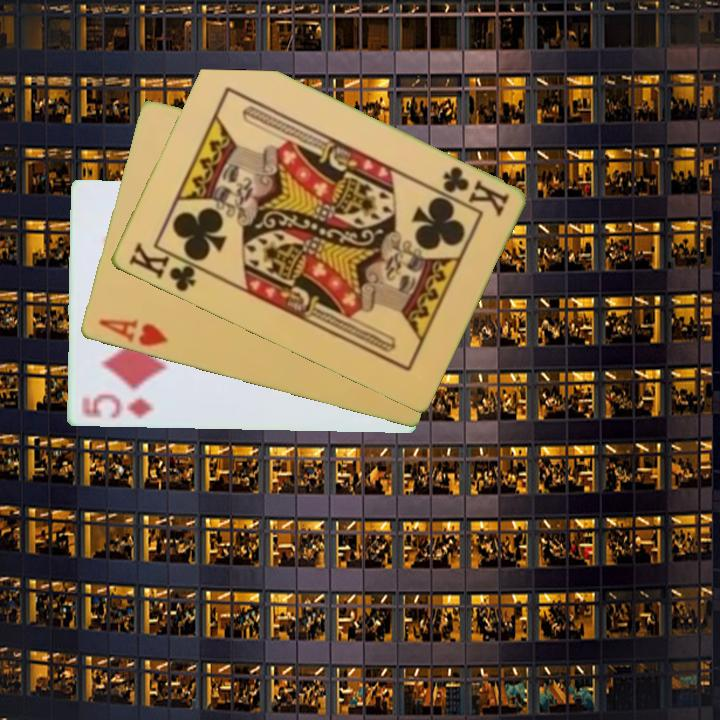5d: (76, 391, 156, 422)
Ah: (95, 315, 171, 350)
Kc: (124, 239, 207, 295), (438, 163, 512, 219)
